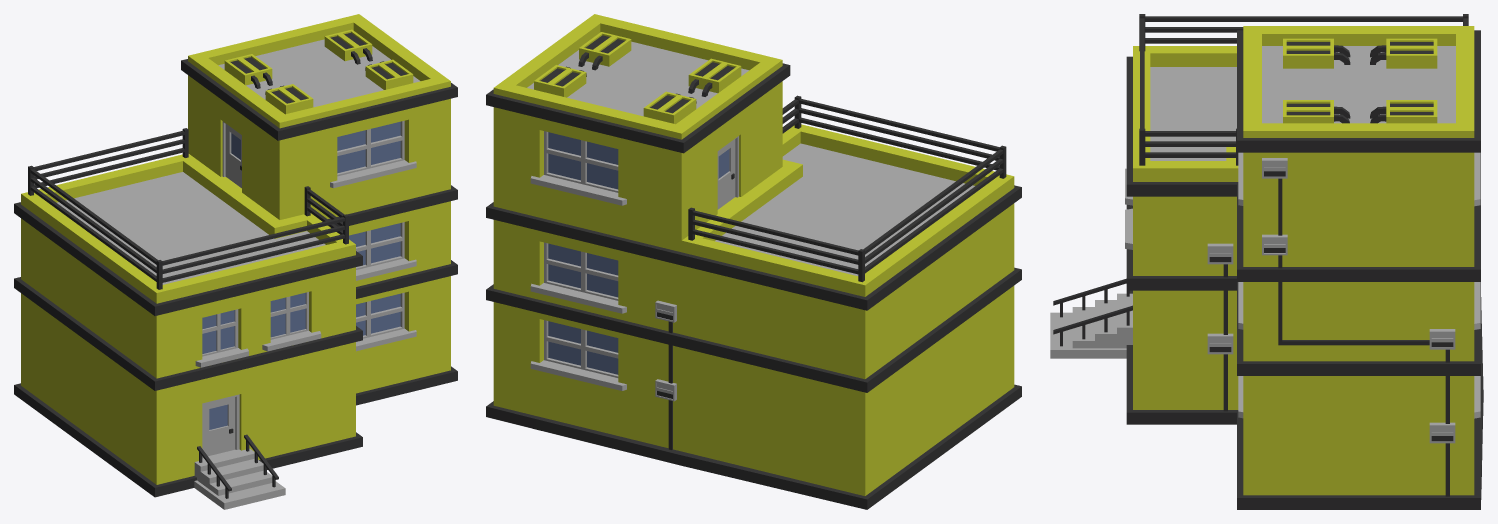
The model's file is Building6_3.fbx.
The picture shows the model from 3 angles, left to right: view 1: azimuth 30°, elevation 25°; view 2: azimuth 150°, elevation 25°; view 3: azimuth 270°, elevation 25°; orthographic projection. The views are drawn at different scales.
Visible parts, largest first — view 1: Building6_3; view 2: Building6_3; view 3: Building6_3.
Boxes of the visible parts, x1=… form: Building6_3: x1=14, y1=14, x2=457, y2=509; Building6_3: x1=486, y1=14, x2=1021, y2=509; Building6_3: x1=1050, y1=14, x2=1483, y2=509.
Size of the model in its own units: 716 by 590 by 615.
